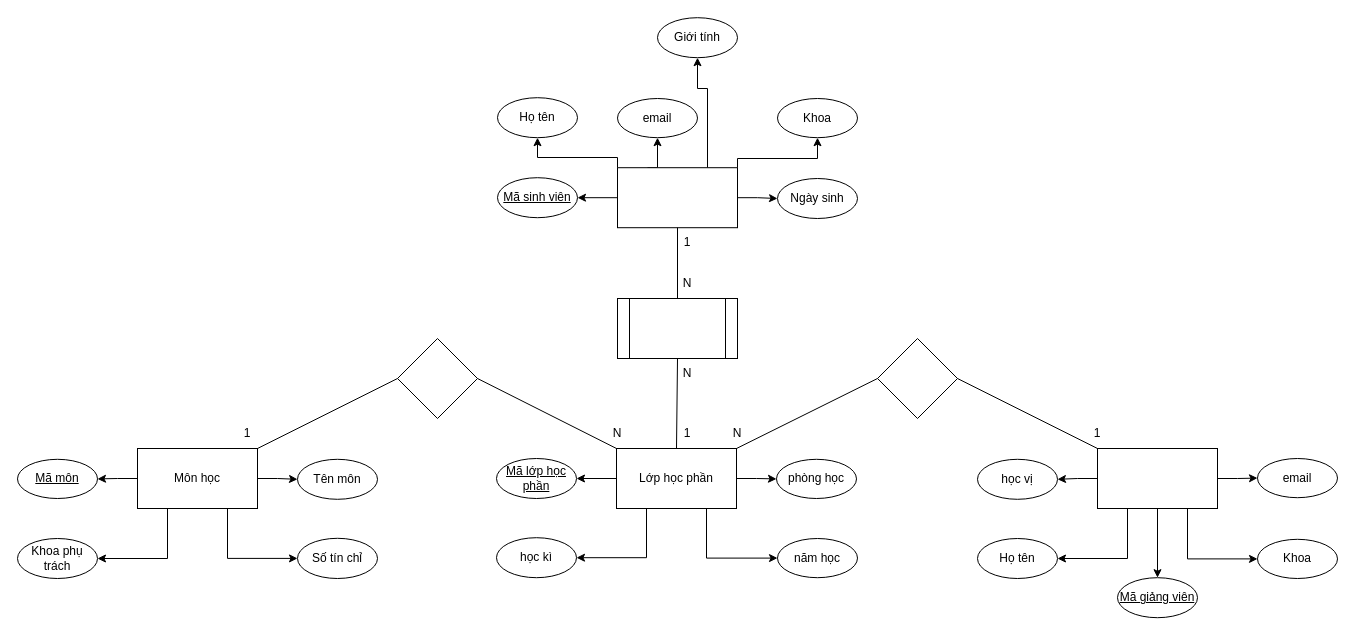
The diagram is 1355 pixels wide and 635 high, and some of its shapes have lost their labels. Each missing label, with the centre of its shape:
Giảng viên: the point at 1157,478
Sinh viên: the point at 677,197
Thuộc: the point at 437,378
Đăng ký: the point at 677,328
Được phụ trách: the point at 917,378
